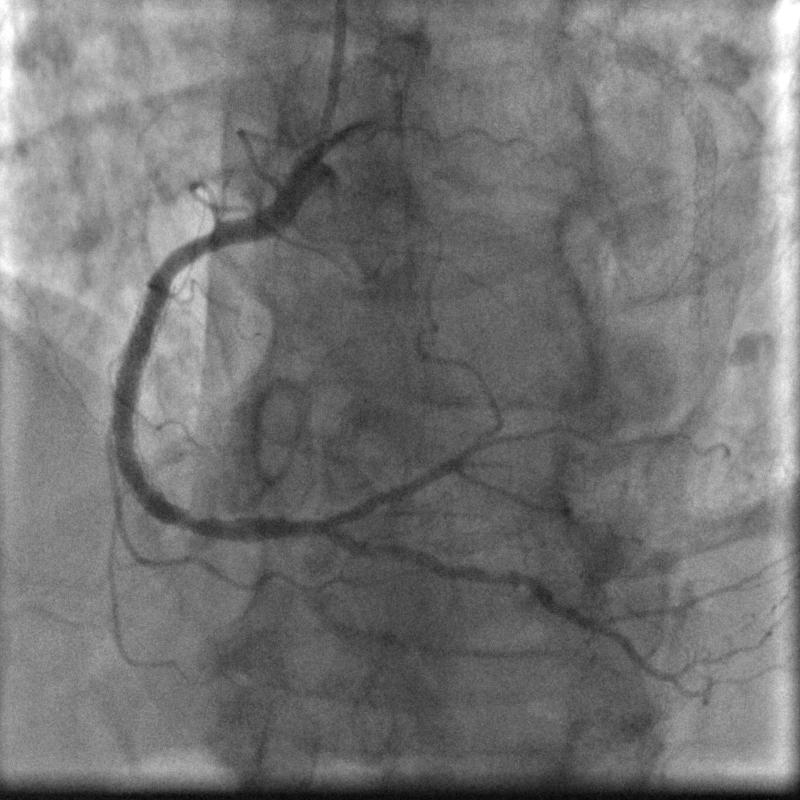Stenosis: (179, 225, 219, 272)
